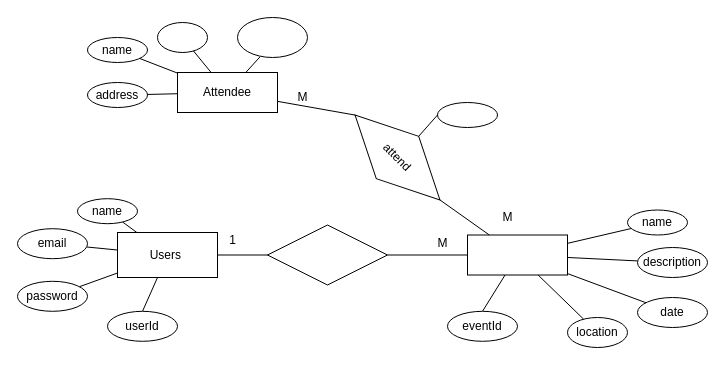
This 725x365 diagram has some shape labels left out. Here are the shapes that lost their labels. From the top down, the centre of each, then its label:
At [182,37]: "phone".
At [272,37]: "AttendeeID".
At [467,115]: "data".
At [327,254]: "create".
At [517,254]: "Event".
